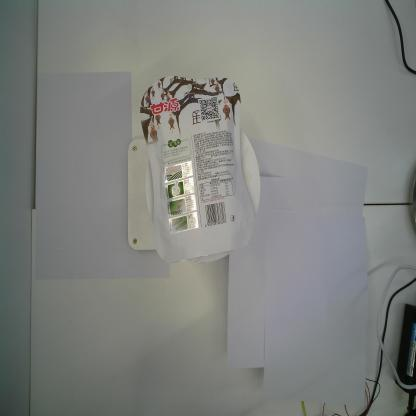Dried Fruit: (139, 75, 255, 264)
